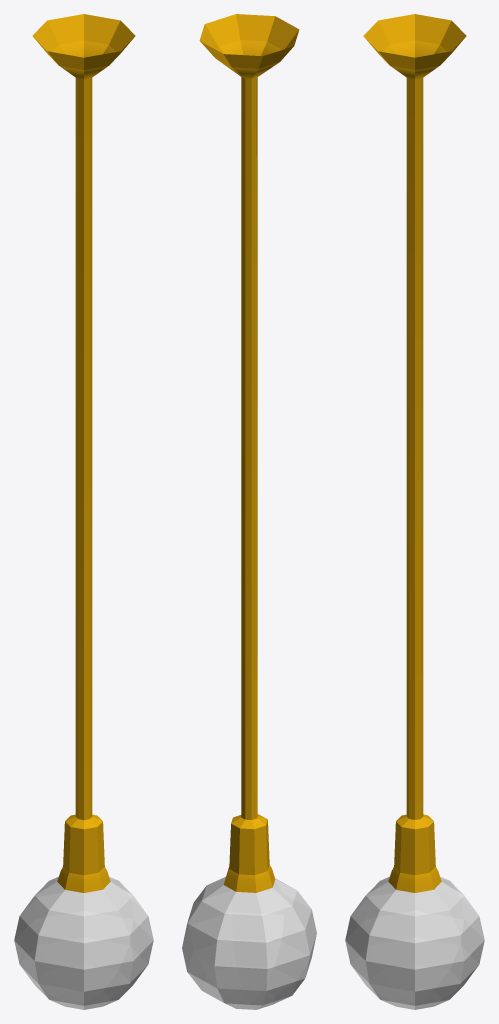
The model's file is Ball_Light_gold.fbx.
The picture shows the model from 3 angles, left to right: view 1: azimuth 90°, elevation 25°; view 2: azimuth 150°, elevation 25°; view 3: azimuth 270°, elevation 25°; orthographic projection.
Parts seen in each view (by area): view 1: Ball_Light_gold; view 2: Ball_Light_gold; view 3: Ball_Light_gold.
Boxes of the visible parts, x1=… form: Ball_Light_gold: x1=14, y1=14, x2=153, y2=1009; Ball_Light_gold: x1=182, y1=14, x2=316, y2=1009; Ball_Light_gold: x1=345, y1=14, x2=484, y2=1009.
Size of the model in its own units: 0.1609 by 1.23 by 0.1609.
